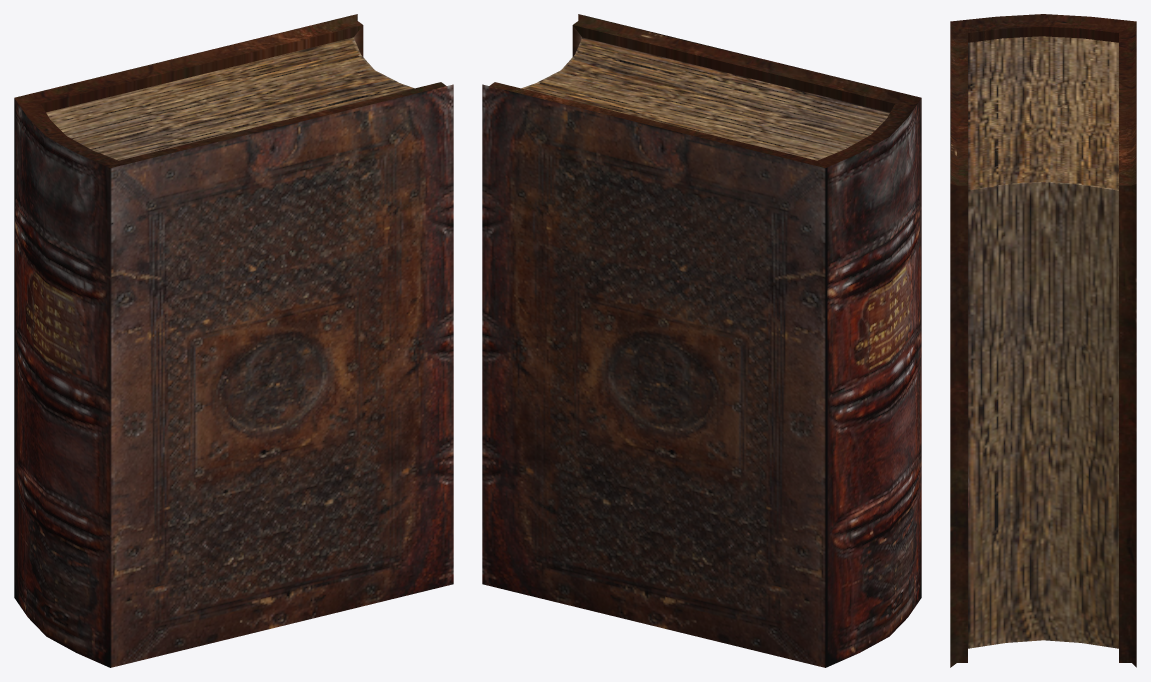
Rendered from Book3.FBX.
The picture shows the model from 3 angles, left to right: view 1: azimuth 30°, elevation 25°; view 2: azimuth 150°, elevation 25°; view 3: azimuth 270°, elevation 25°; orthographic projection. The views are drawn at different scales.
Visible parts, largest first — view 1: Box03; view 2: Box03; view 3: Box03.
Part boxes in pixels (bbox=[...]): Box03: bbox=[14, 14, 453, 667]; Box03: bbox=[482, 14, 921, 667]; Box03: bbox=[950, 14, 1136, 667].
Bounding box in the file's own units: 93.89 × 125 × 43.54.
1 material, 1 textured.
